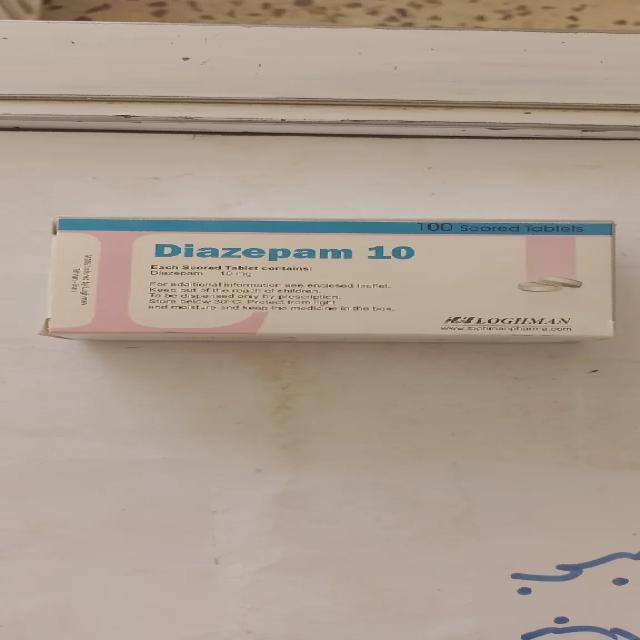drug-name: (152, 242, 416, 263)
